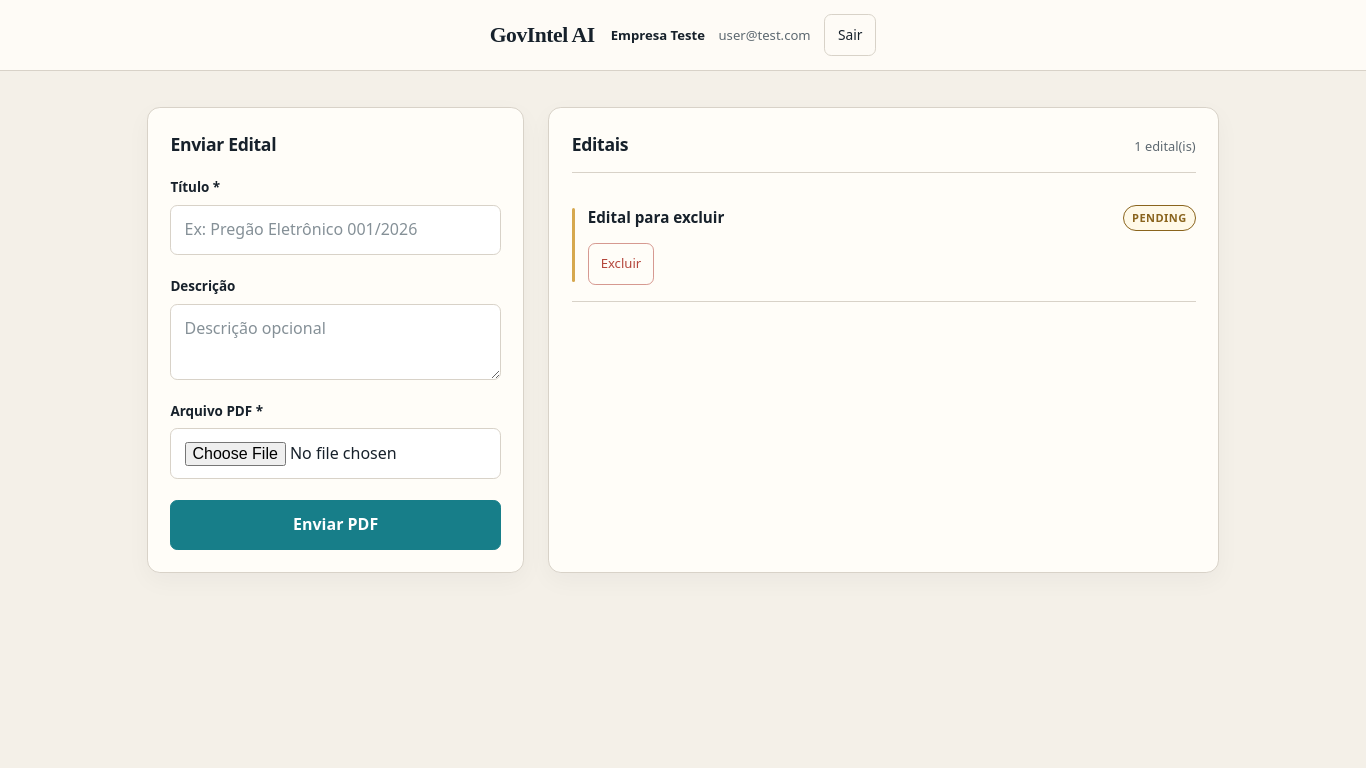
Scenario: Dashboard delete tender › exclui o edital com confirmação e remove da lista
Expected: the text "Edital para excluir" is shown, [588,206,724,230]
Click the button "Excluir".
click(621, 264)  # box [588,243,654,284]
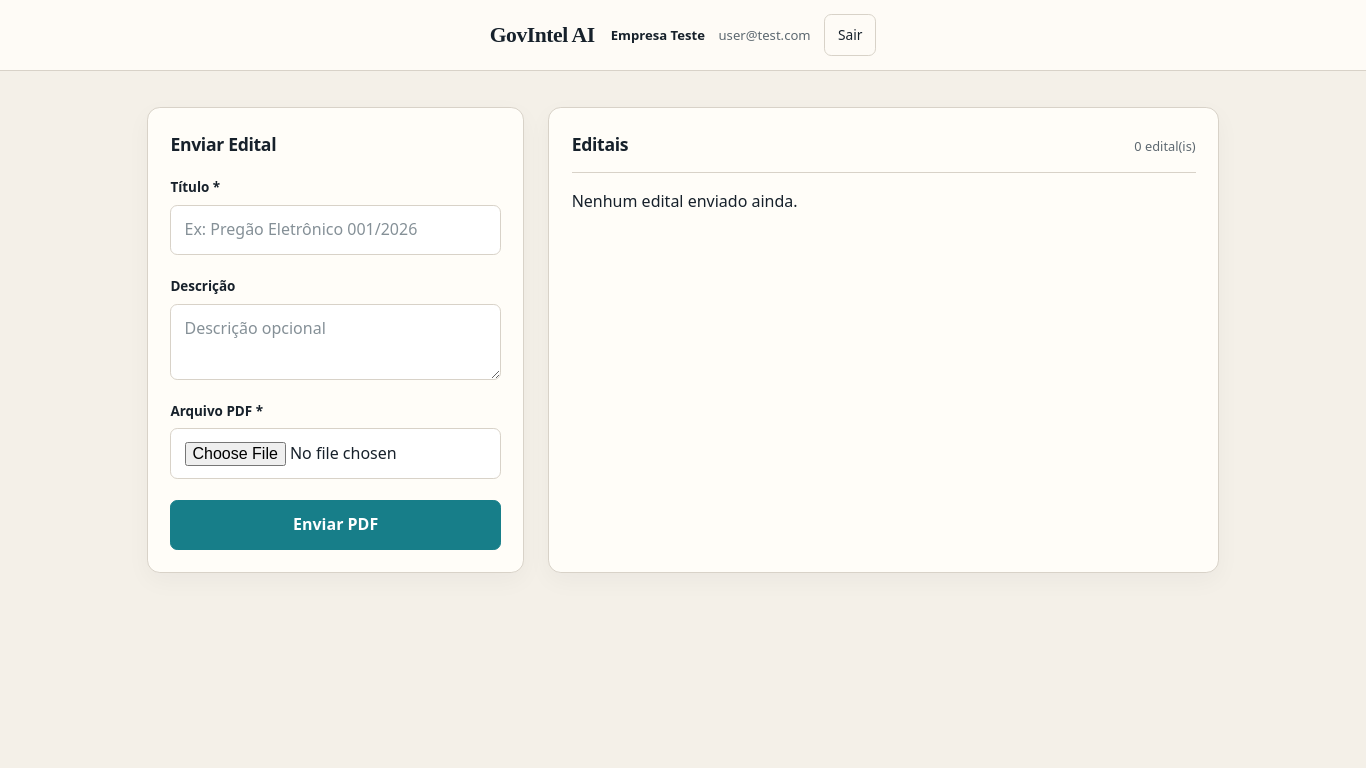
Now the text "Edital para excluir" is gone
